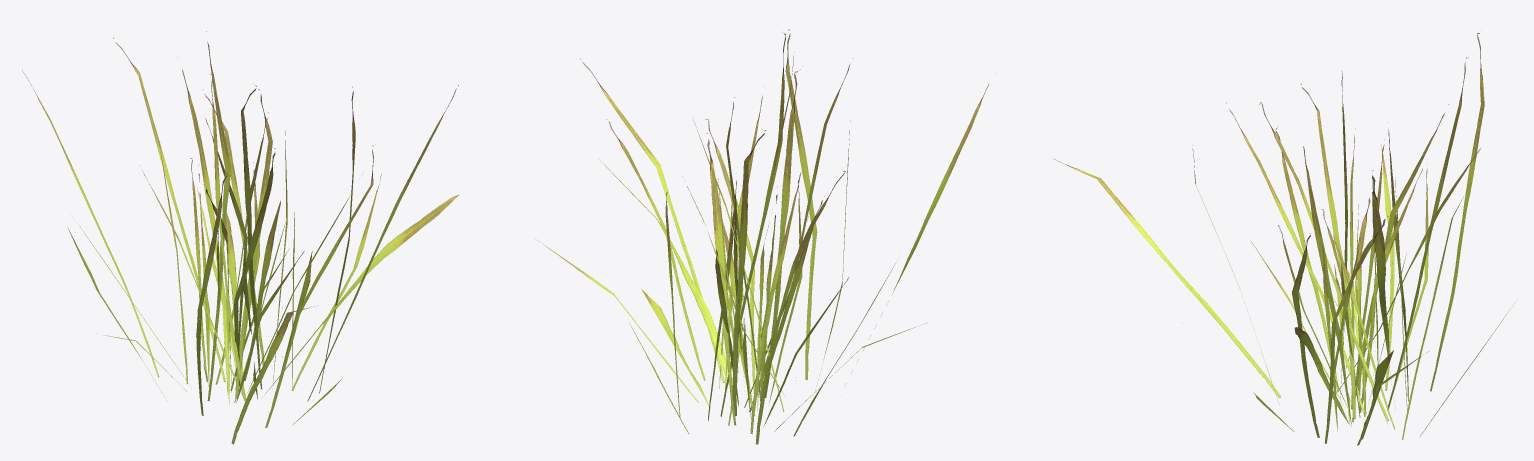
Rendered from grass_2.fbx.
The picture shows the model from 3 angles, left to right: view 1: azimuth 30°, elevation 25°; view 2: azimuth 150°, elevation 25°; view 3: azimuth 270°, elevation 25°; orthographic projection. The views are drawn at different scales.
Parts seen in each view (by area): view 1: Grass1_Grass2_Mat_0; view 2: Grass1_Grass2_Mat_0; view 3: Grass1_Grass2_Mat_0.
Part boxes in pixels (x1=…): Grass1_Grass2_Mat_0: x1=22, y1=31, x2=458, y2=444; Grass1_Grass2_Mat_0: x1=536, y1=29, x2=989, y2=444; Grass1_Grass2_Mat_0: x1=1052, y1=33, x2=1512, y2=445.
Bounding box in the file's own units: 46.85 × 41.68 × 51.78.
1 material, 1 textured.
